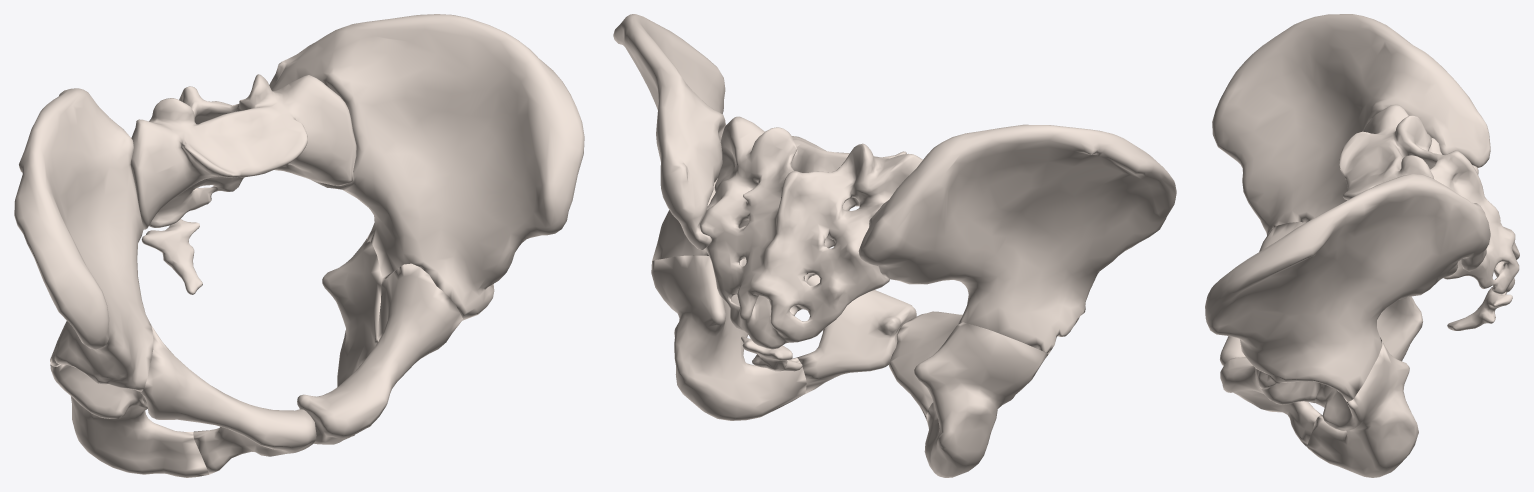
The model's file is vh_f_pelvis-40.glb.
3 renders of one model, left to right at view 1: azimuth 30°, elevation 25°; view 2: azimuth 150°, elevation 25°; view 3: azimuth 270°, elevation 25°, orthographic. The views are drawn at different scales.
Visible parts, largest first — view 1: VH_F_ilium_compact_bone_L, VH_F_ilium_compact_bone_R, VH_F_sacrum, VH_F_pubis_compact_bone_L, VH_F_pubis_compact_bone_R, VH_F_ischium_compact_bone_R, VH_F_ischium_compact_bone_L, VH_F_coccyx; view 2: VH_F_ilium_compact_bone_R, VH_F_sacrum, VH_F_ilium_compact_bone_L, VH_F_ischium_compact_bone_L, VH_F_ischium_compact_bone_R, VH_F_pubis_compact_bone_L, VH_F_pubis_compact_bone_R, VH_F_coccyx; view 3: VH_F_ilium_compact_bone_L, VH_F_ilium_compact_bone_R, VH_F_sacrum, VH_F_ischium_compact_bone_L, VH_F_pubis_compact_bone_L, VH_F_ischium_compact_bone_R, VH_F_coccyx, VH_F_pubis_compact_bone_R.
Part boxes in pixels (box(x1,y1,x2,y2)): VH_F_ilium_compact_bone_L: box(269, 14, 584, 320); VH_F_ilium_compact_bone_R: box(14, 88, 153, 392); VH_F_sacrum: box(130, 74, 356, 229); VH_F_pubis_compact_bone_L: box(297, 263, 462, 444); VH_F_pubis_compact_bone_R: box(140, 325, 316, 474); VH_F_ischium_compact_bone_R: box(50, 361, 209, 477); VH_F_ischium_compact_bone_L: box(322, 238, 382, 436); VH_F_coccyx: box(141, 219, 202, 294); VH_F_ilium_compact_bone_R: box(858, 124, 1176, 354); VH_F_sacrum: box(700, 116, 922, 349); VH_F_ilium_compact_bone_L: box(613, 14, 745, 260); VH_F_ischium_compact_bone_L: box(651, 255, 806, 420); VH_F_ischium_compact_bone_R: box(914, 322, 1048, 477); VH_F_pubis_compact_bone_L: box(740, 258, 916, 393); VH_F_pubis_compact_bone_R: box(889, 311, 962, 420); VH_F_coccyx: box(741, 336, 802, 371); VH_F_ilium_compact_bone_L: box(1205, 174, 1490, 401); VH_F_ilium_compact_bone_R: box(1212, 14, 1490, 235); VH_F_sacrum: box(1339, 104, 1519, 294); VH_F_ischium_compact_bone_L: box(1307, 341, 1418, 477); VH_F_pubis_compact_bone_L: box(1220, 357, 1321, 447); VH_F_ischium_compact_bone_R: box(1377, 296, 1422, 361); VH_F_coccyx: box(1447, 287, 1512, 330); VH_F_pubis_compact_bone_R: box(1220, 222, 1305, 365).
Bounding box in the file's own units: 0.3168 × 0.2116 × 0.1826.
